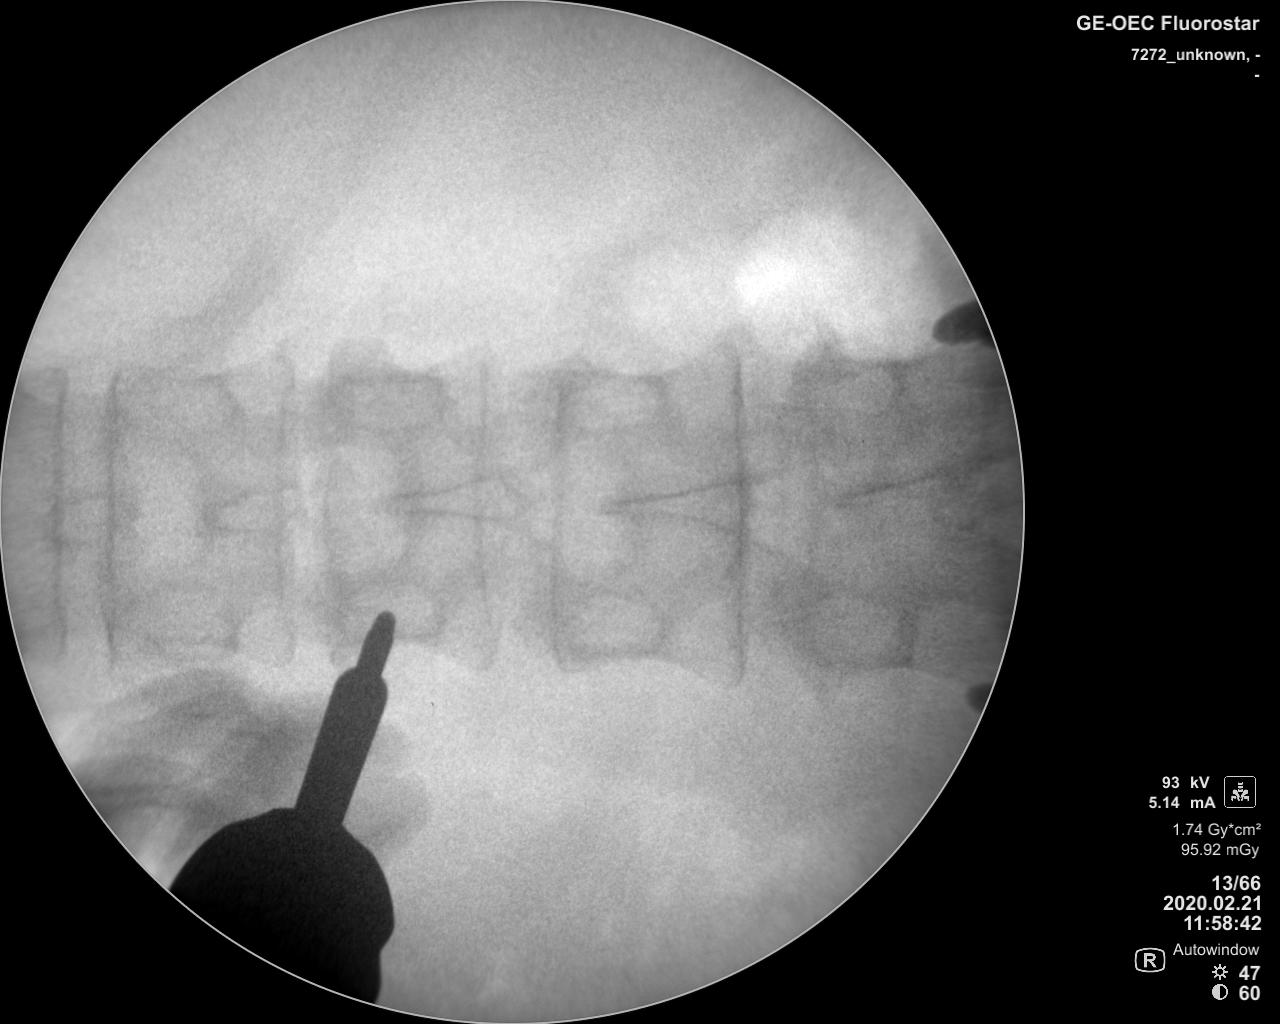eyes: (111, 581, 236, 664), (114, 359, 240, 440), (802, 585, 908, 673), (559, 585, 667, 664), (799, 350, 902, 430), (559, 365, 669, 436), (343, 367, 448, 432), (345, 578, 444, 637)
line: (470, 329, 510, 680), (724, 302, 758, 699), (534, 332, 571, 683), (89, 346, 127, 676), (269, 333, 302, 678), (43, 356, 78, 661)
nose: (585, 461, 776, 543), (824, 456, 974, 521), (370, 469, 530, 529), (28, 491, 145, 544), (192, 478, 306, 532)
